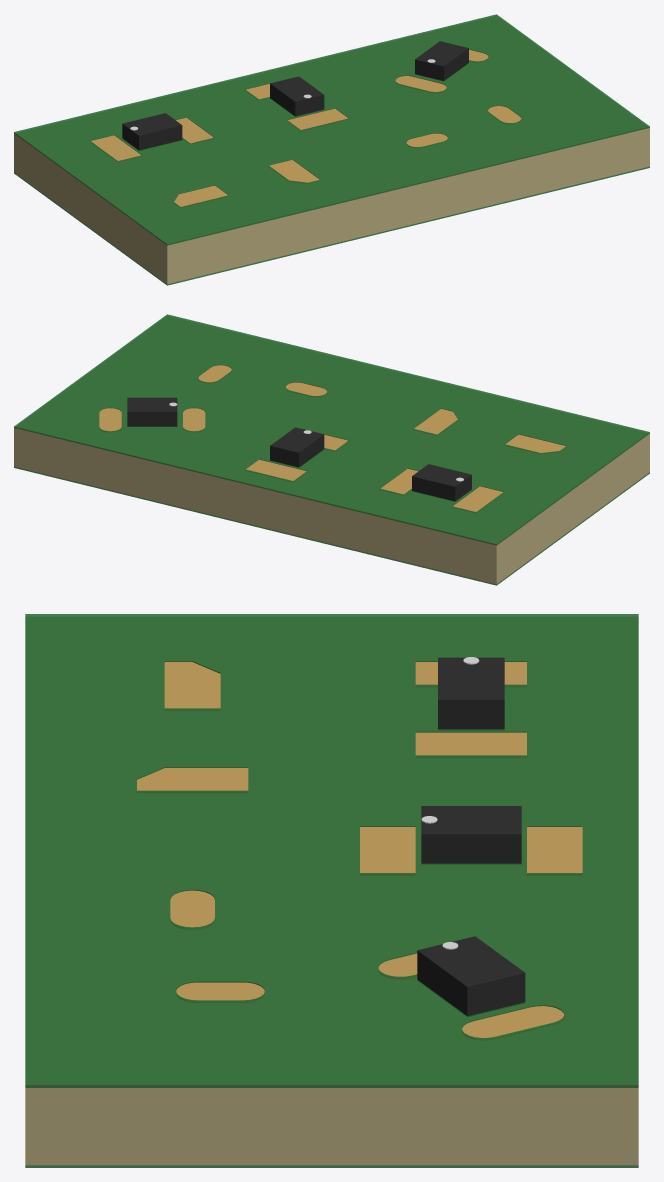
Rendered from primitive-xform.glb.
3 renders of one model, top to bottom at view 1: azimuth 30°, elevation 25°; view 2: azimuth 150°, elevation 25°; view 3: azimuth 270°, elevation 25°, orthographic. The views are drawn at different scales.
Parts seen in each view (by area): view 1: layer/@soldermask-top, layer/@core, layer/TOP, U1, U2, U3, layer/@soldermask-bottom; view 2: layer/@soldermask-top, layer/@core, layer/TOP, U1, U2, U3, layer/@soldermask-bottom; view 3: layer/@soldermask-top, layer/@core, layer/TOP, U3, U2, U1, layer/@soldermask-bottom.
Part boxes in pixels (x1,y1,x2,y2): layer/@soldermask-top: (14,14,649,245); layer/@core: (14,16,649,284); layer/TOP: (90,49,521,207); U1: (122,113,182,150); U2: (270,76,324,116); U3: (415,41,468,80); layer/@soldermask-bottom: (14,166,649,285); layer/@soldermask-top: (14,314,649,545); layer/@core: (14,317,649,584); layer/TOP: (99,365,566,511); U1: (412,464,471,501); U2: (270,427,324,467); U3: (127,397,177,426); layer/@soldermask-bottom: (14,466,649,585); layer/@soldermask-top: (25,614,638,1087); layer/@core: (25,617,638,1165); layer/TOP: (137,662,582,1039); U3: (417,936,525,1016); U2: (421,806,521,863); U1: (438,657,504,729); layer/@soldermask-bottom: (25,1165,638,1167).
Bounding box in the file's own units: 0.02 × 0.00224 × 0.011.
